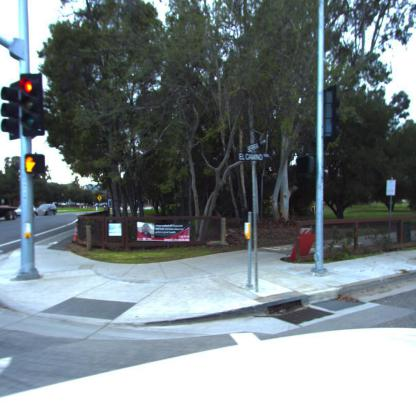car: (1, 204, 19, 221), (35, 203, 57, 215)
traffic light: (22, 74, 46, 138), (1, 83, 23, 139), (26, 153, 46, 174)
